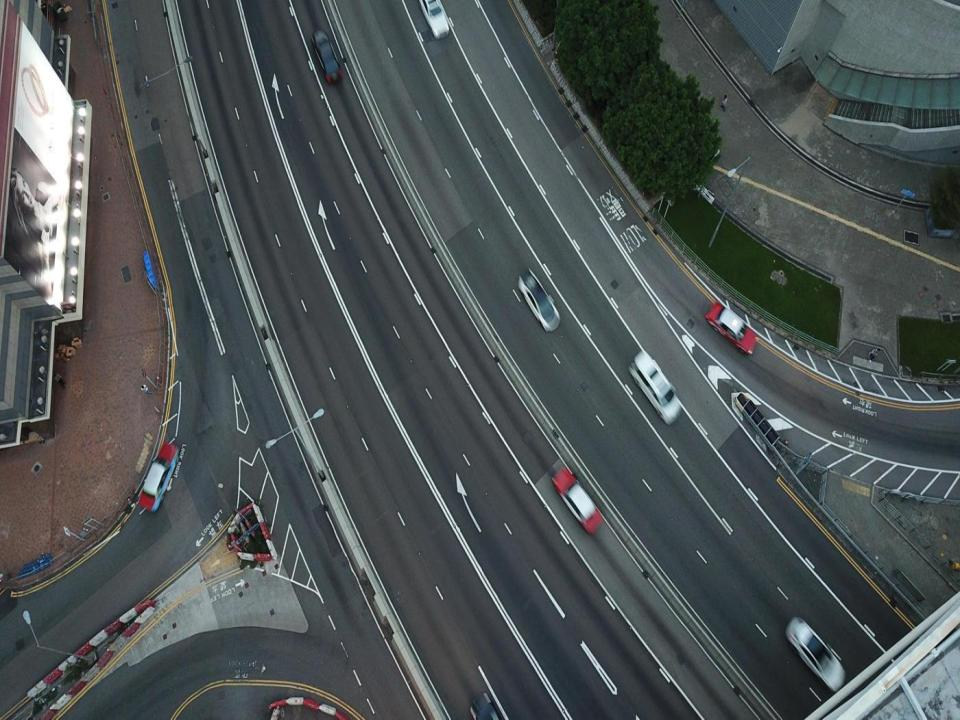car: (785, 613, 846, 689), (551, 463, 603, 534), (139, 444, 180, 512), (518, 266, 559, 332), (706, 302, 758, 352), (311, 28, 342, 82), (420, 0, 452, 38), (468, 693, 499, 719)
van: (628, 347, 682, 425)
